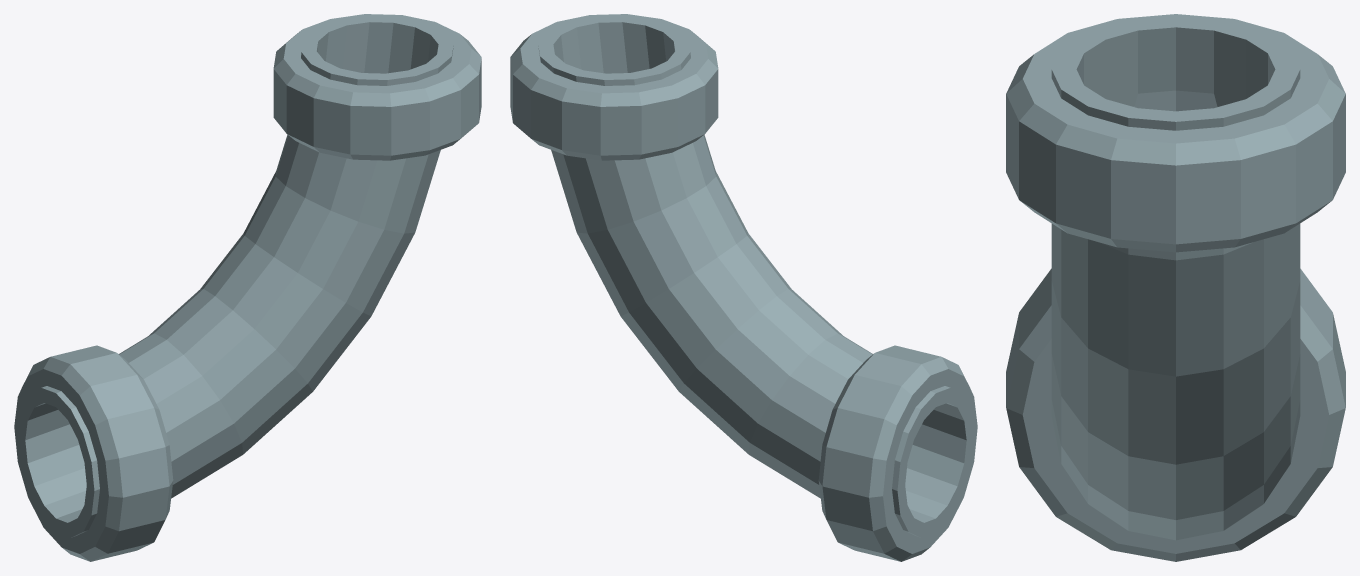
Rendered from Systems-PipeElbow.fbx.
3 renders of one model, left to right at view 1: azimuth 30°, elevation 25°; view 2: azimuth 150°, elevation 25°; view 3: azimuth 270°, elevation 25°, orthographic. The views are drawn at different scales.
Visible parts, largest first — view 1: Hollow Quarter Turn, Elbow Flange A, Elbow Flange B; view 2: Hollow Quarter Turn, Elbow Flange A, Elbow Flange B; view 3: Hollow Quarter Turn, Elbow Flange B, Elbow Flange A.
Part boxes in pixels (box(x1,y1,x2,y2)): Hollow Quarter Turn: box(17, 15, 453, 537); Elbow Flange A: box(14, 345, 173, 561); Elbow Flange B: box(273, 14, 481, 160); Hollow Quarter Turn: box(538, 15, 974, 537); Elbow Flange A: box(818, 345, 977, 561); Elbow Flange B: box(510, 14, 718, 160); Hollow Quarter Turn: box(1051, 17, 1300, 540); Elbow Flange B: box(1006, 14, 1345, 252); Elbow Flange A: box(1006, 268, 1345, 561).
Size of the model in its own units: 0.186 by 0.186 by 0.082.
